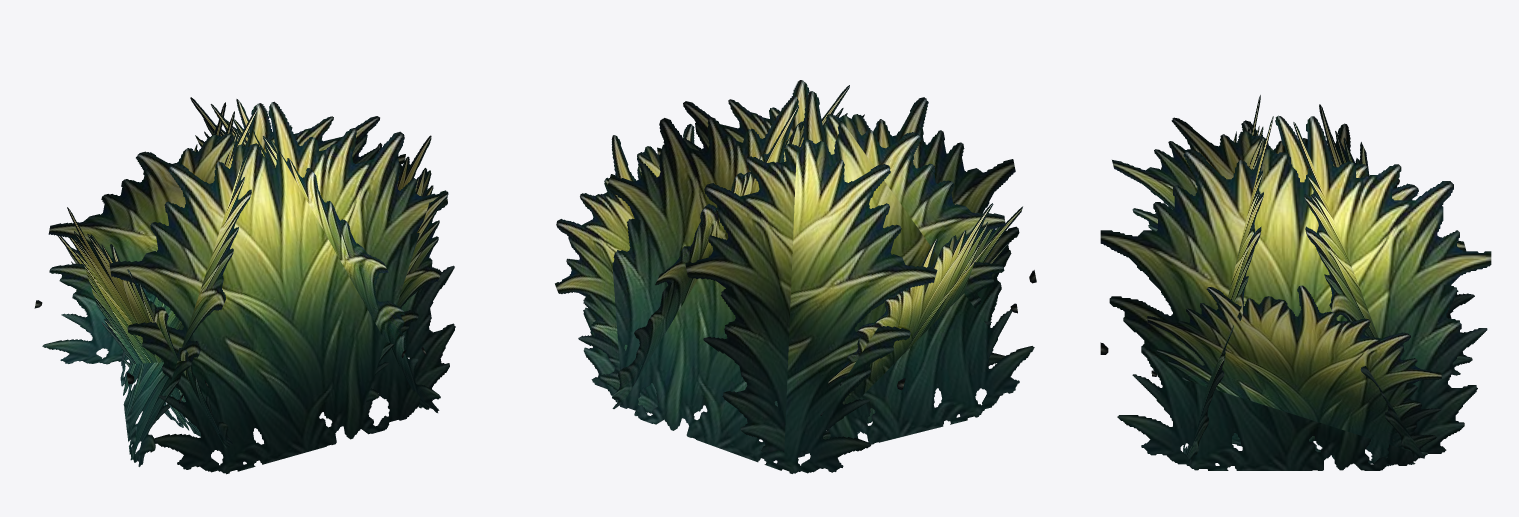
Rendered from Grass_01.fbx.
The picture shows the model from 3 angles, left to right: view 1: azimuth 30°, elevation 25°; view 2: azimuth 150°, elevation 25°; view 3: azimuth 270°, elevation 25°; orthographic projection.
Visible parts, largest first — view 1: Grass__01; view 2: Grass__01; view 3: Grass__01.
Boxes of the visible parts, x1,y1,x2,y2 form: Grass__01: (34, 97, 455, 474); Grass__01: (555, 80, 1036, 473); Grass__01: (1100, 95, 1491, 470).
Size of the model in its own units: 170 by 145 by 153.
